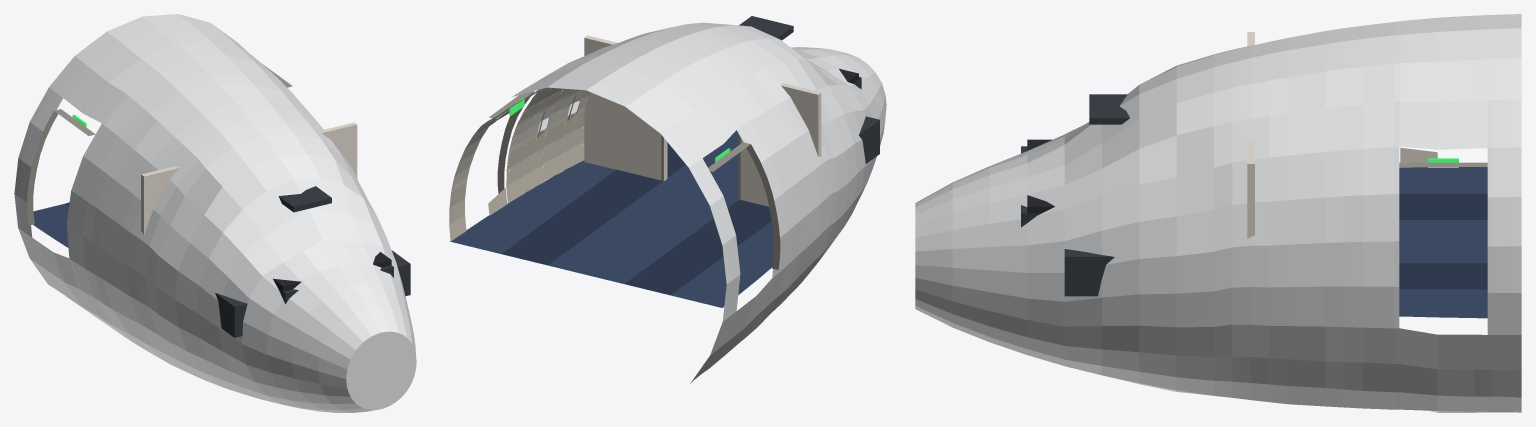
File: ac_section_nose.glb
The picture shows the model from 3 angles, left to right: view 1: azimuth 30°, elevation 25°; view 2: azimuth 150°, elevation 25°; view 3: azimuth 270°, elevation 25°; orthographic projection. The views are drawn at different scales.
Visible parts, largest first — view 1: ac_section_nose; view 2: ac_section_nose; view 3: ac_section_nose.
Boxes of the visible parts, x1,y1,x2,y2 form: ac_section_nose: [14, 14, 416, 412]; ac_section_nose: [449, 16, 886, 383]; ac_section_nose: [915, 14, 1521, 412].
Size of the model in its own units: 6.07 by 6.57 by 9.75.
